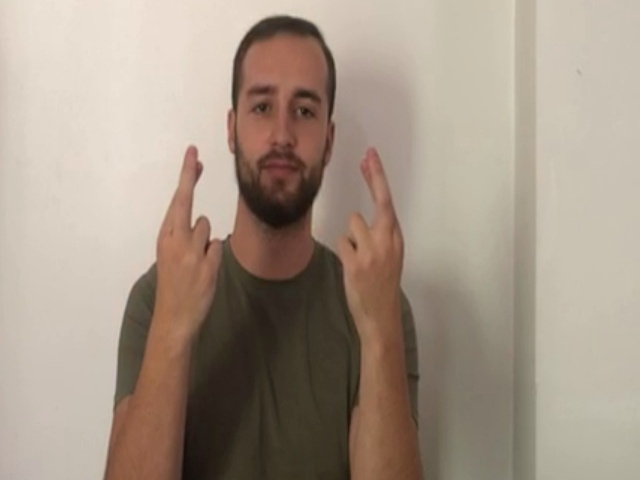Nadevanja: (151, 140, 413, 350)
